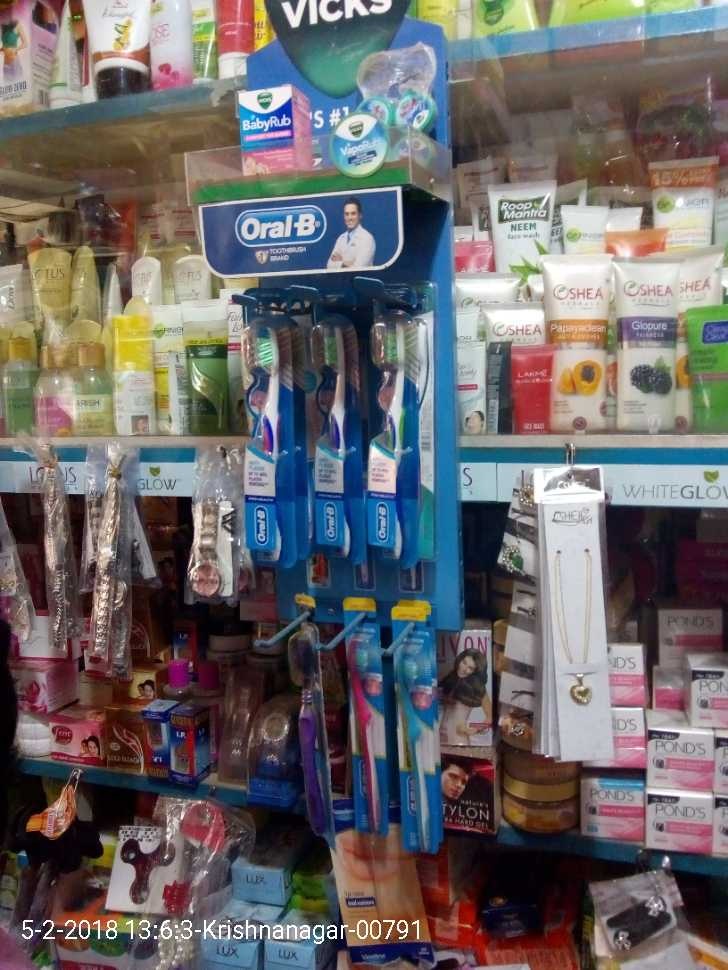pharmacy: (299, 328, 360, 554), (365, 316, 411, 562), (236, 322, 285, 550), (225, 86, 311, 183)
